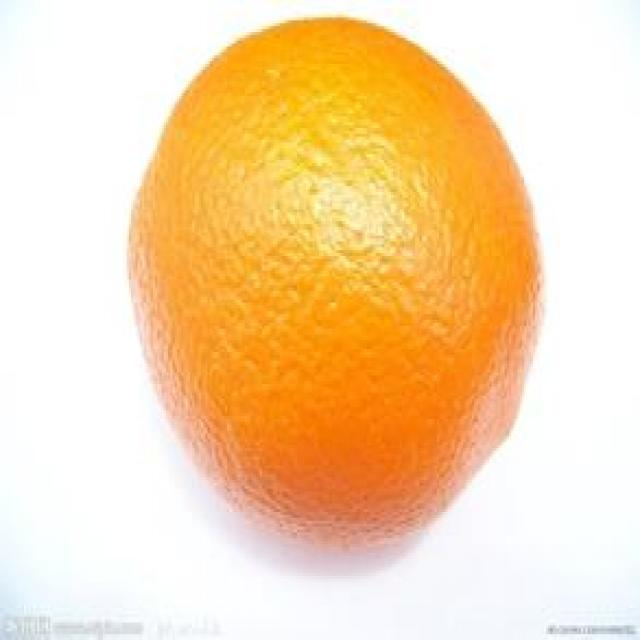Orange: (125, 18, 548, 560)
